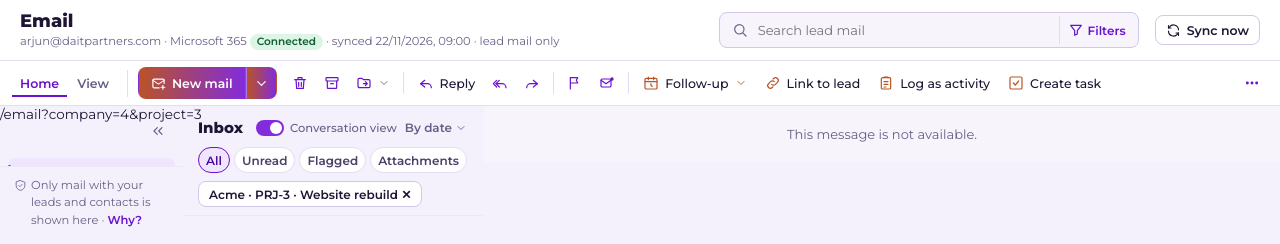
Email screen (release 2B-2, prototype V.email) › a Projects-list link (?company=&project=) narrows the list and shows a removable chip
What coordinates should you click on to do the following:
click the link "Acme · PRJ-3 · Website rebuild ✕"
I would click on:
 (310, 194)
Its box is [198,181,422,207].
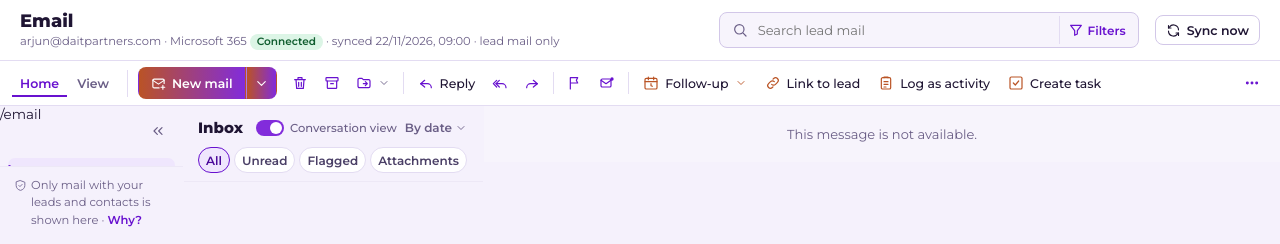
Check: the text with test id "where" reads "/email", box [0,106,41,122]
Check: the link "✕" is gone
